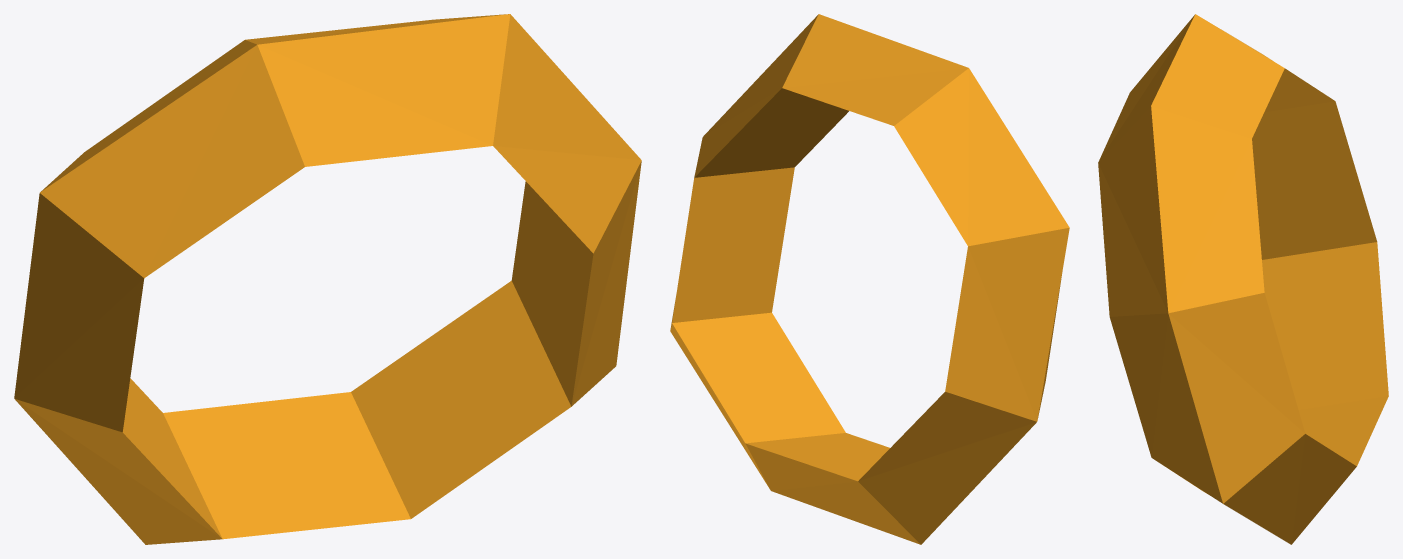
File: Earring 02.FBX
The picture shows the model from 3 angles, left to right: view 1: azimuth 30°, elevation 25°; view 2: azimuth 150°, elevation 25°; view 3: azimuth 270°, elevation 25°; orthographic projection. The views are drawn at different scales.
Visible parts, largest first — view 1: Earring 02; view 2: Earring 02; view 3: Earring 02.
Boxes of the visible parts, <box> form: Earring 02: <box>14,14,641,544</box>; Earring 02: <box>670,14,1069,544</box>; Earring 02: <box>1098,14,1388,544</box>.
Size of the model in its own units: 3.26 by 1.85 by 3.18.
